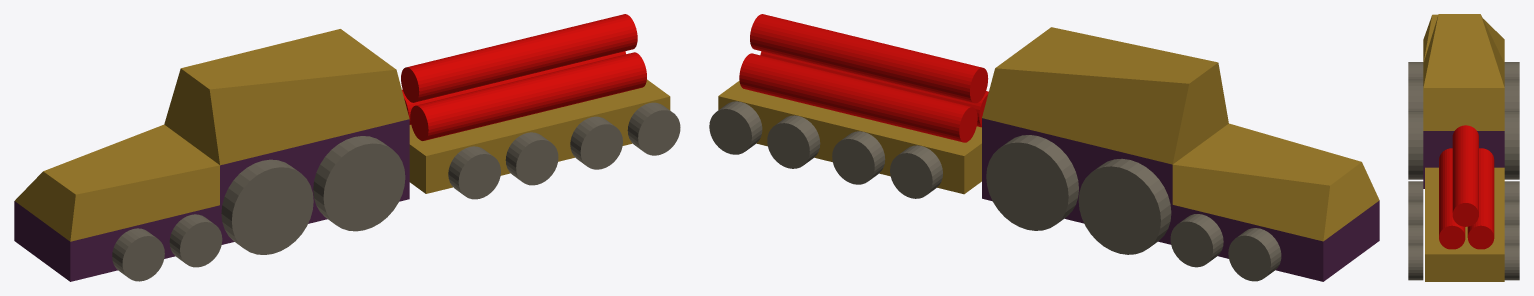
File: train.fbx
3 views of the same model, side by side, from view 1: azimuth 30°, elevation 25°; view 2: azimuth 150°, elevation 25°; view 3: azimuth 270°, elevation 25° (orthographic). The views are drawn at different scales.
Parts seen in each view (by area): view 1: Cube; view 2: Cube; view 3: Cube.
Boxes of the visible parts, x1=… form: Cube: x1=14, y1=14, x2=680, y2=281; Cube: x1=709, y1=14, x2=1379, y2=281; Cube: x1=1408, y1=14, x2=1519, y2=281.
Size of the model in its own units: 8.3 by 2.11 by 1.83.
